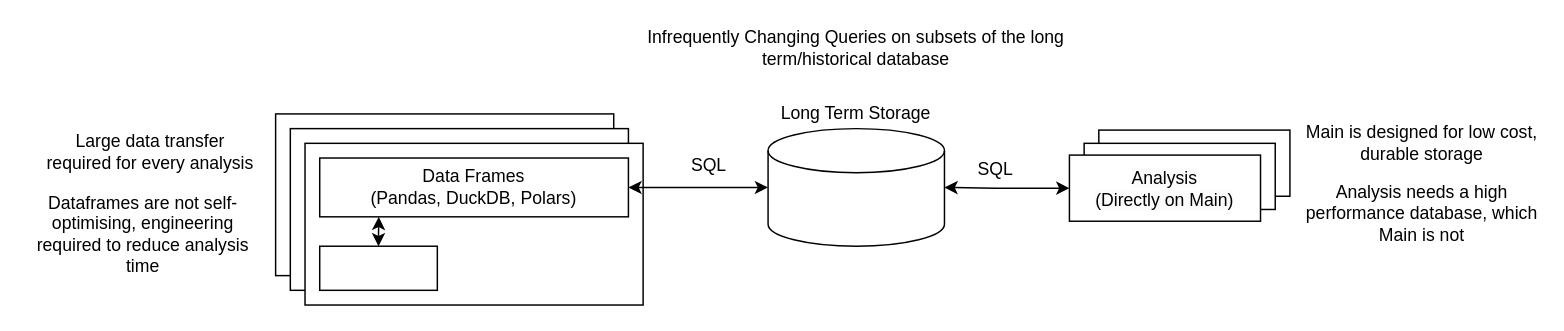
Some shapes in this 1564 by 331 pixel diagram are drawn without their labels. Each missing label, with the centre of its shape:
"Analysis" belongs at pixel 377 267.
"Main" belongs at pixel 855 186.
